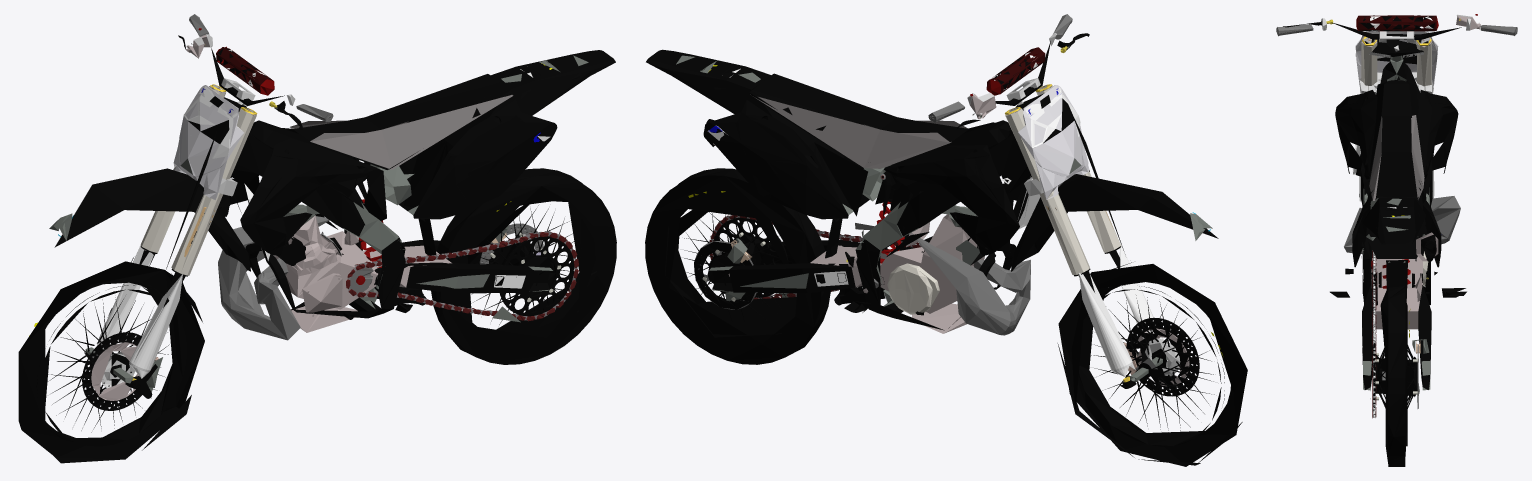
The model's file is z_motox.glb.
3 views of the same model, side by side, from view 1: azimuth 30°, elevation 25°; view 2: azimuth 150°, elevation 25°; view 3: azimuth 270°, elevation 25° (orthographic). The views are drawn at different scales.
Visible parts, largest first — view 1: Mesh7__0136_Charcoal_1_0, Mesh783_Material_11_0, Mesh1_M_0131_Silver_0, Mesh3__0132_LightGray_2_0, Mesh18_M_0133_Gray_0, Mesh1301_M_0024_OrangeRed_0, Mesh1202__0128_White_3_0, Mesh4_FrontColor_0, Mesh1206_M_0049_Beige_0, Mesh897_Light_Olive_0, Mesh35_M_0110_LightSlateGray_0, Mesh350_M_0023_FireBrick_0 (+2 smaller); view 2: Mesh7__0136_Charcoal_1_0, Mesh1_M_0131_Silver_0, Mesh783_Material_11_0, Mesh18_M_0133_Gray_0, Mesh3__0132_LightGray_2_0, Mesh1301_M_0024_OrangeRed_0, Mesh1202__0128_White_3_0, Mesh4_FrontColor_0, Mesh1206_M_0049_Beige_0, Mesh897_Light_Olive_0, Mesh1390_M_0048_PaleGoldenrod_0, Mesh350_M_0023_FireBrick_0 (+1 smaller); view 3: Mesh7__0136_Charcoal_1_0, Mesh783_Material_11_0, Mesh1_M_0131_Silver_0, Mesh3__0132_LightGray_2_0, Mesh18_M_0133_Gray_0, Mesh897_Light_Olive_0, Mesh1301_M_0024_OrangeRed_0, Mesh4_FrontColor_0, Mesh1202__0020_Red_1_0, Mesh350_M_0023_FireBrick_0, Mesh1206_M_0049_Beige_0, Mesh1202__0128_White_3_0 (+2 smaller).
Boxes of the visible parts, x1,y1,x2,y2 form: Mesh7__0136_Charcoal_1_0: (18,48,616,463); Mesh783_Material_11_0: (54,50,615,386); Mesh1_M_0131_Silver_0: (36,35,599,446); Mesh3__0132_LightGray_2_0: (91,34,451,400); Mesh18_M_0133_Gray_0: (92,14,543,357); Mesh1301_M_0024_OrangeRed_0: (290,95,513,169); Mesh1202__0128_White_3_0: (97,49,550,378); Mesh4_FrontColor_0: (49,55,588,392); Mesh1206_M_0049_Beige_0: (173,85,243,199); Mesh897_Light_Olive_0: (140,86,256,275); Mesh35_M_0110_LightSlateGray_0: (346,232,578,321); Mesh350_M_0023_FireBrick_0: (101,34,295,388); Mesh7__0136_Charcoal_1_0: (645,49,1247,466); Mesh1_M_0131_Silver_0: (665,33,1233,446); Mesh783_Material_11_0: (646,49,1218,378); Mesh18_M_0133_Gray_0: (694,14,1157,370); Mesh3__0132_LightGray_2_0: (713,86,1189,386); Mesh1301_M_0024_OrangeRed_0: (750,94,968,168); Mesh1202__0128_White_3_0: (707,52,1163,376); Mesh4_FrontColor_0: (676,46,1212,381); Mesh1206_M_0049_Beige_0: (1018,85,1089,199); Mesh897_Light_Olive_0: (1005,85,1121,274); Mesh1390_M_0048_PaleGoldenrod_0: (887,263,939,314); Mesh350_M_0023_FireBrick_0: (967,33,1180,376); Mesh7__0136_Charcoal_1_0: (1353,15,1440,466); Mesh783_Material_11_0: (1335,39,1458,396); Mesh1_M_0131_Silver_0: (1283,21,1466,446); Mesh3__0132_LightGray_2_0: (1361,15,1480,329); Mesh18_M_0133_Gray_0: (1276,24,1517,408); Mesh897_Light_Olive_0: (1361,36,1431,90); Mesh1301_M_0024_OrangeRed_0: (1369,115,1424,200); Mesh4_FrontColor_0: (1359,55,1432,402); Mesh1202__0020_Red_1_0: (1358,15,1436,31); Mesh350_M_0023_FireBrick_0: (1321,14,1471,94); Mesh1206_M_0049_Beige_0: (1355,31,1438,86); Mesh1202__0128_White_3_0: (1352,16,1434,354).
Size of the model in its own units: 32.14 by 18.93 by 12.7.
